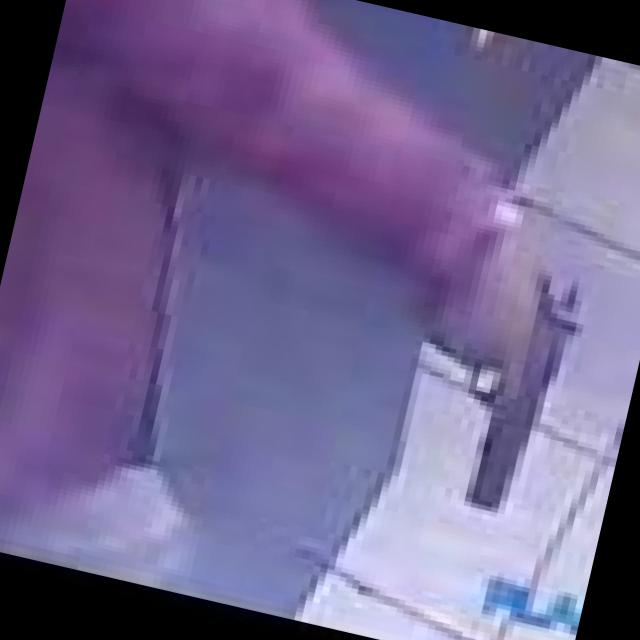Guns: (365, 240, 616, 544)
